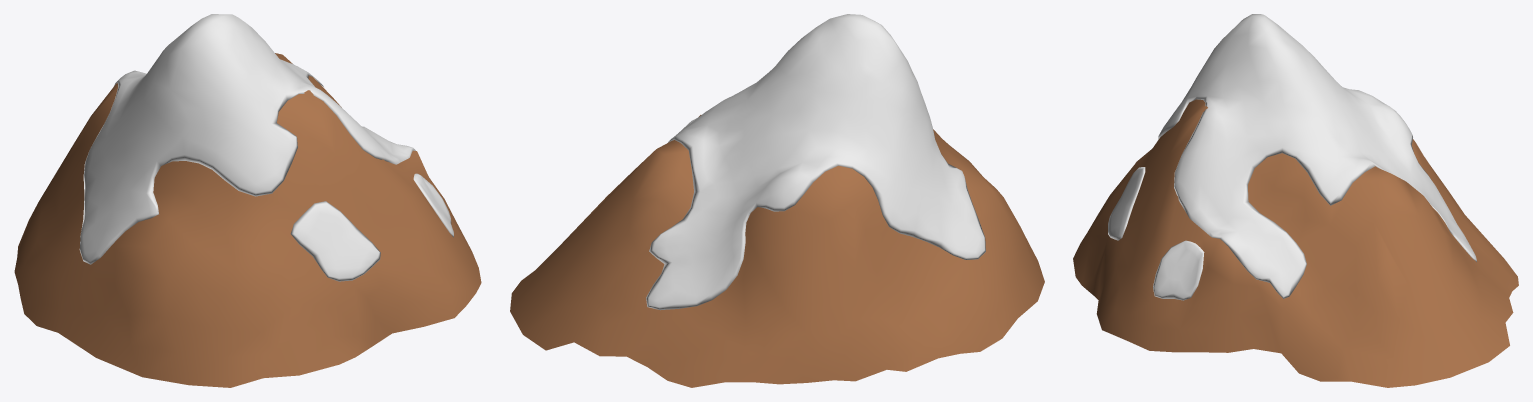
Rendered from SM_Mountain_01.fbx.
3 renders of one model, left to right at view 1: azimuth 30°, elevation 25°; view 2: azimuth 150°, elevation 25°; view 3: azimuth 270°, elevation 25°, orthographic. The views are drawn at different scales.
Parts seen in each view (by area): view 1: SM_Moutain_01; view 2: SM_Moutain_01; view 3: SM_Moutain_01.
Boxes of the visible parts, <box> form: SM_Moutain_01: <box>14,14,481,387</box>; SM_Moutain_01: <box>510,14,1044,387</box>; SM_Moutain_01: <box>1073,14,1518,387</box>.
Size of the model in its own units: 8904 by 5581 by 8884.
